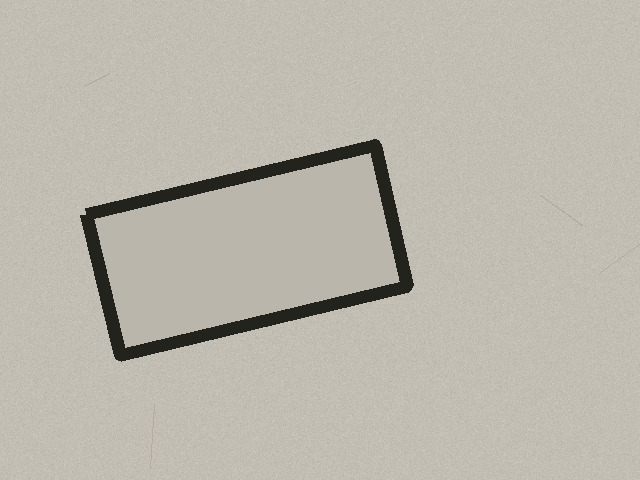parking_area: (86, 145, 407, 355)
